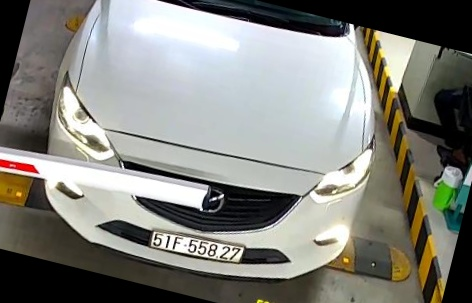plate: (151, 222, 252, 280)
